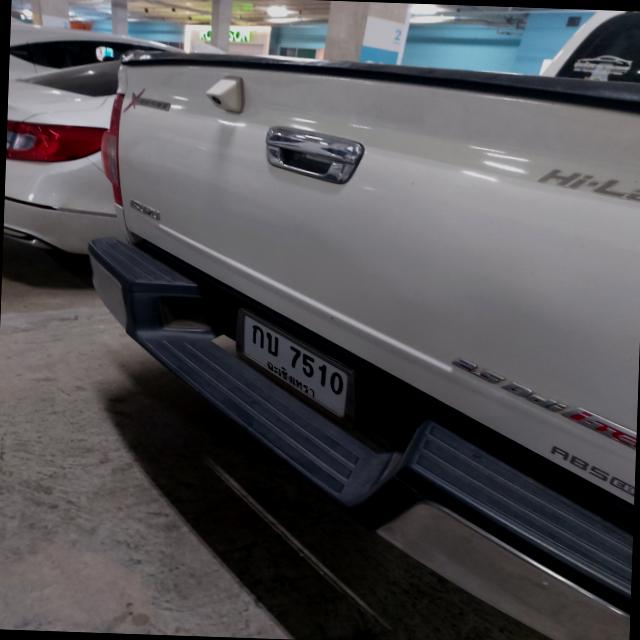license_plate: (242, 312, 348, 419)
